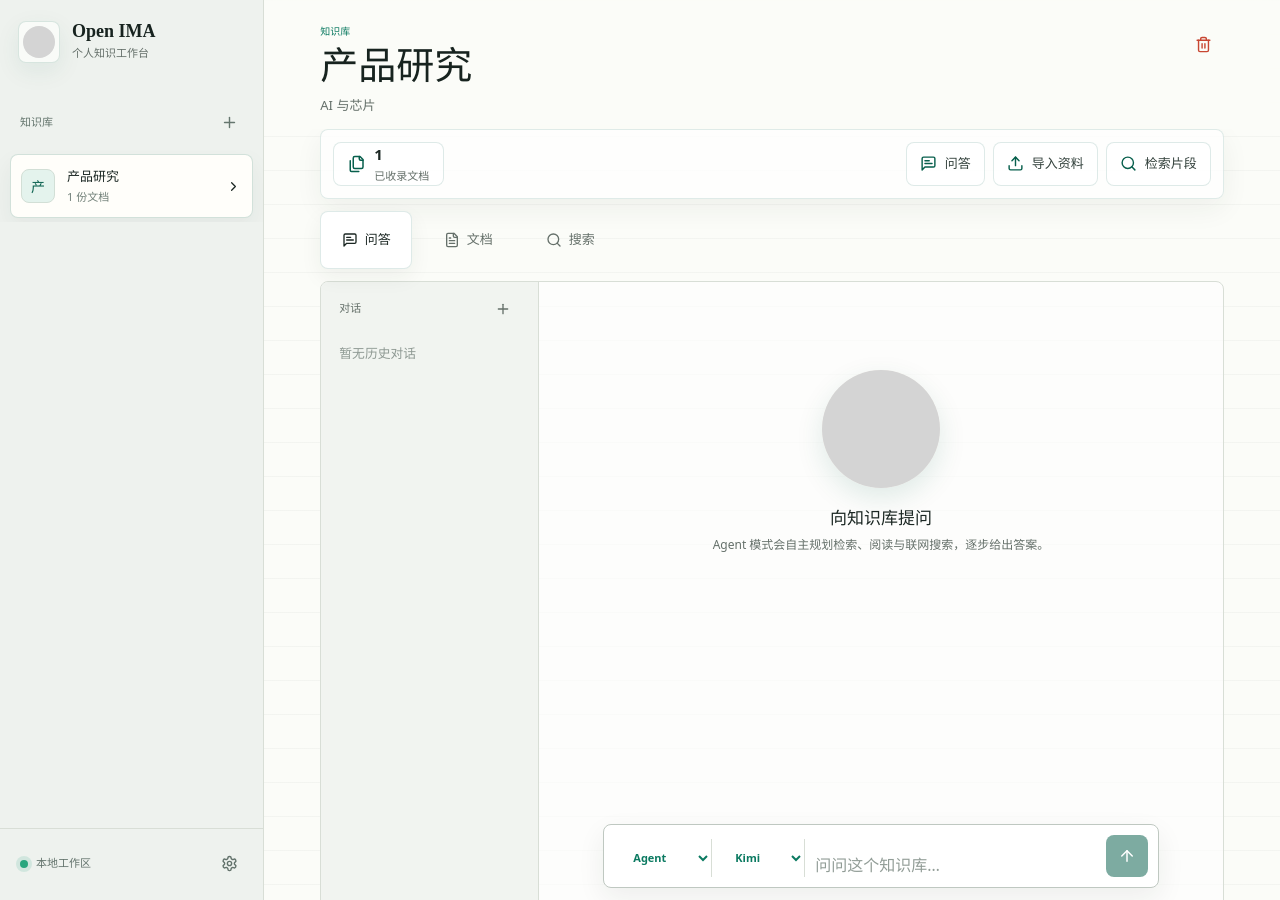
Test: App › switches between chat and search workspaces
Expected: the heading "产品研究" is shown, [320,45,472,87]
Expected: the heading "向知识库提问" is shown, [830,504,932,529]
What coordinates should you click on to do the following:
click the tab "搜索"
I would click on:
 (570, 240)
Its box is [524,211,616,269].
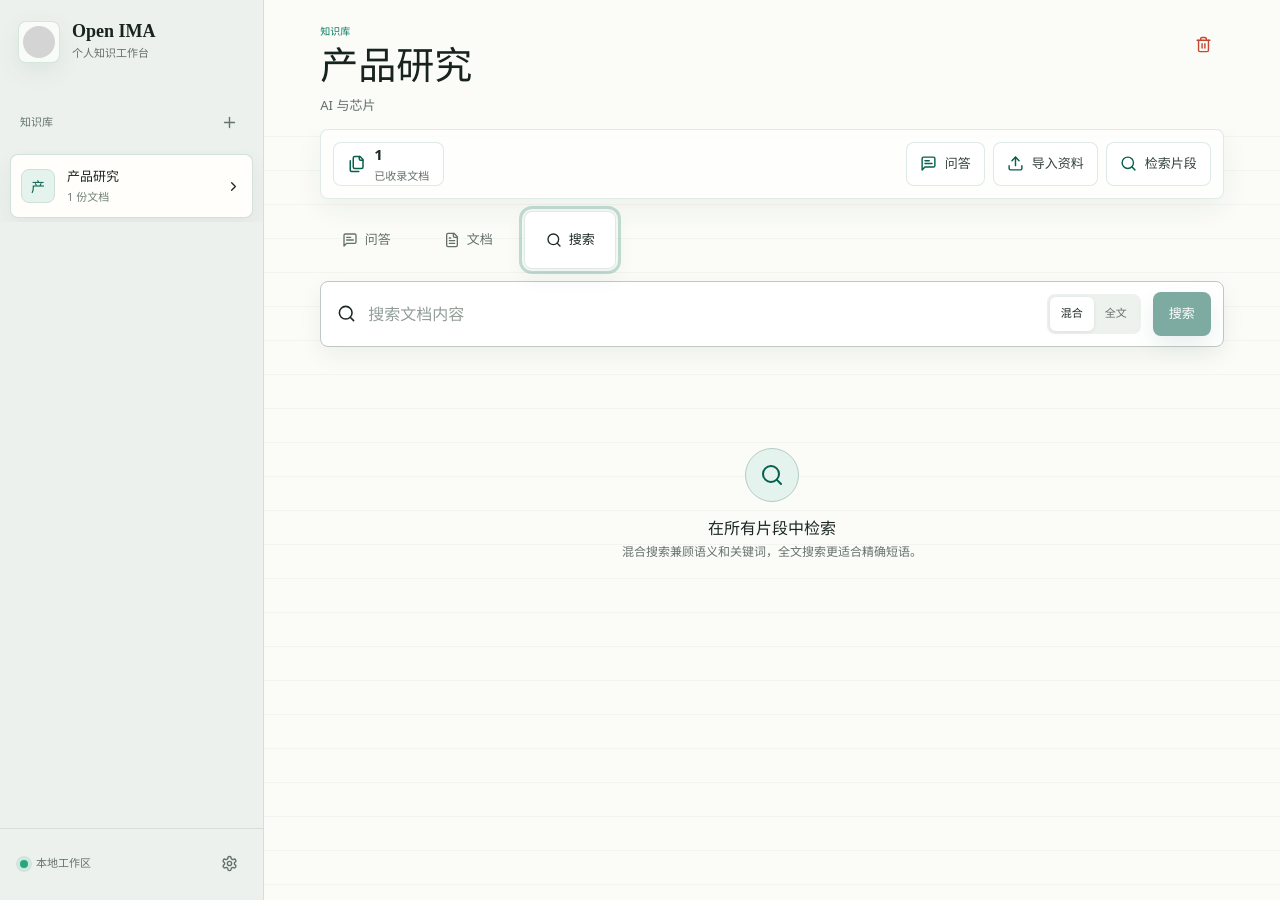
Result: the field with placeholder "搜索文档内容" is shown at [368,302,1035,326]
